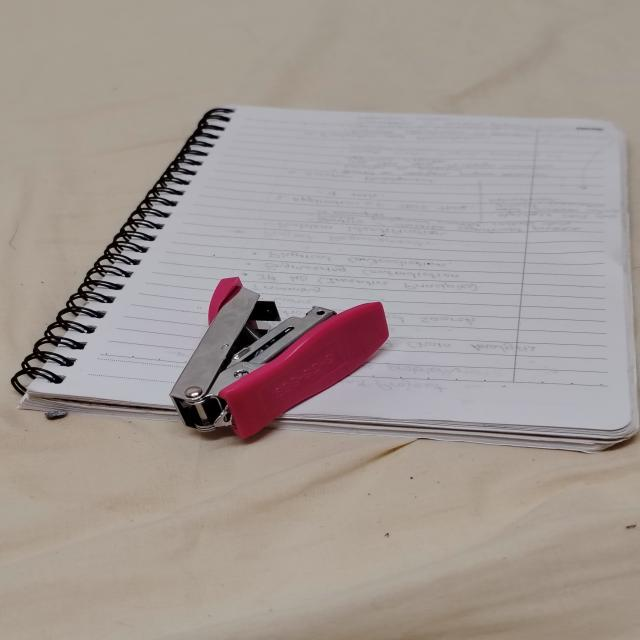stapler: (171, 277, 388, 439)
